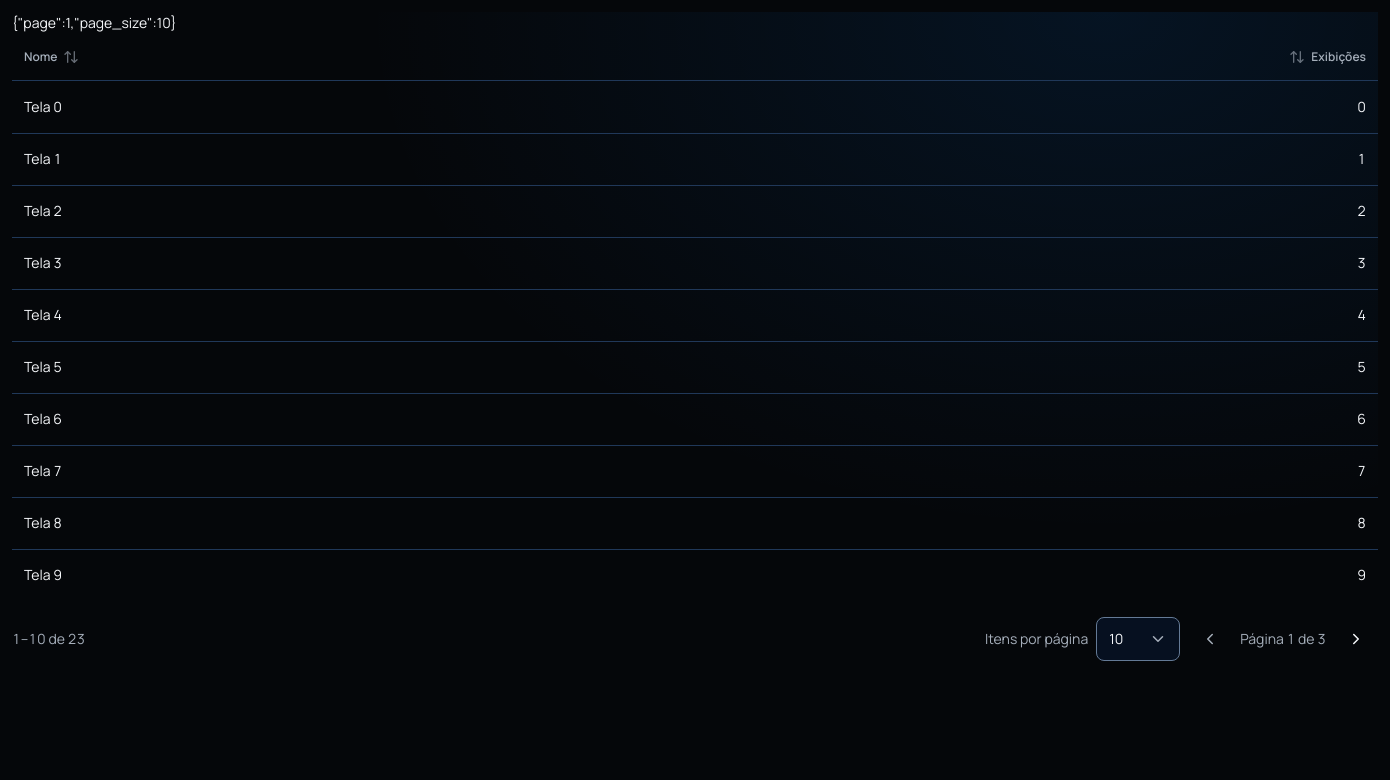
Test: DataTable › paginação do contrato (page/page_size/total) com botões de 44 px nomeados
Check: the text "Página 1 de 3" is shown, box [1240,628,1326,650]
Check: the button named "Página anterior" is disabled, box [1188,617,1232,661]
Click the button named "Próxima página" at {"x": 1356, "y": 639}, box [1334,617,1378,661]
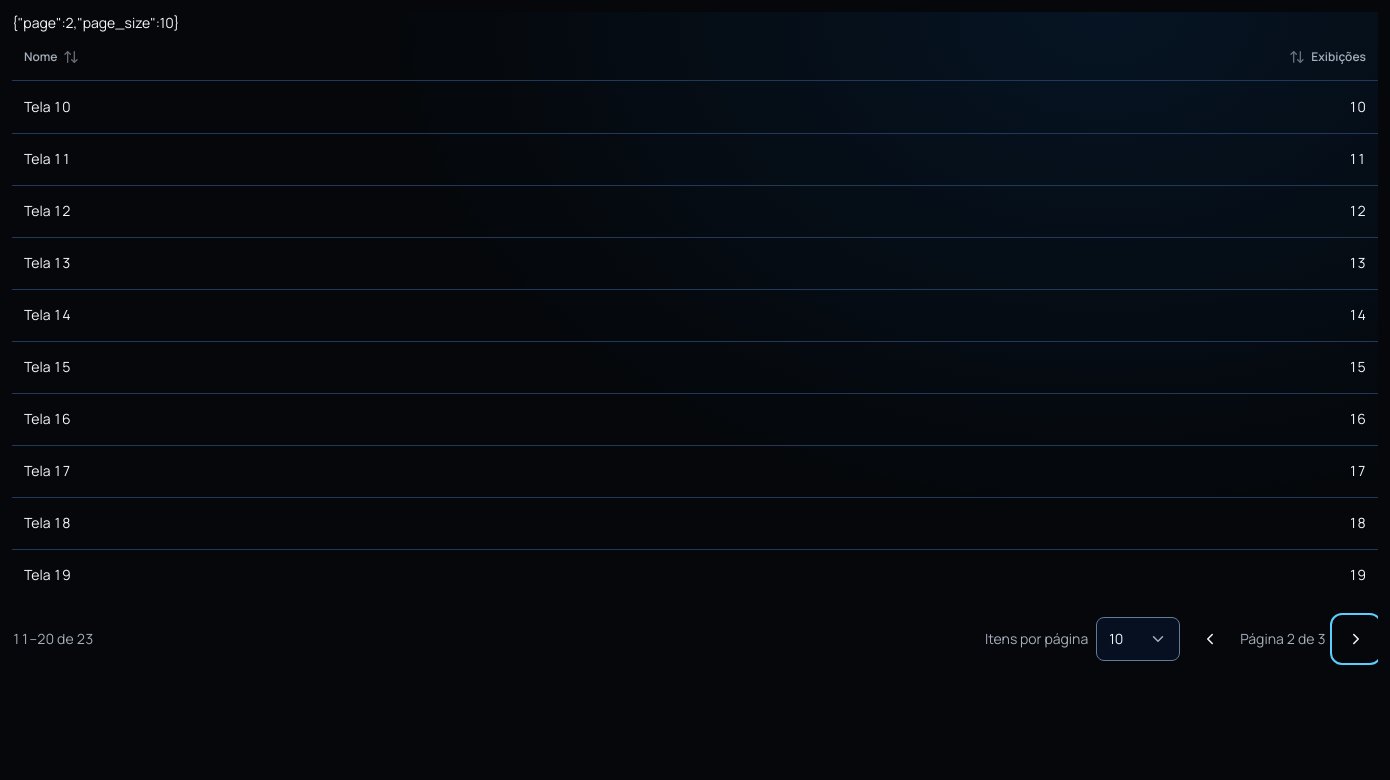
Check: the text "Página 2 de 3" is shown, box [1240,628,1326,650]
Check: the text with test id "params" shows "\"page\":2", box [12,13,180,32]
Check: the text "Tela 10" is shown, box [12,81,614,133]
